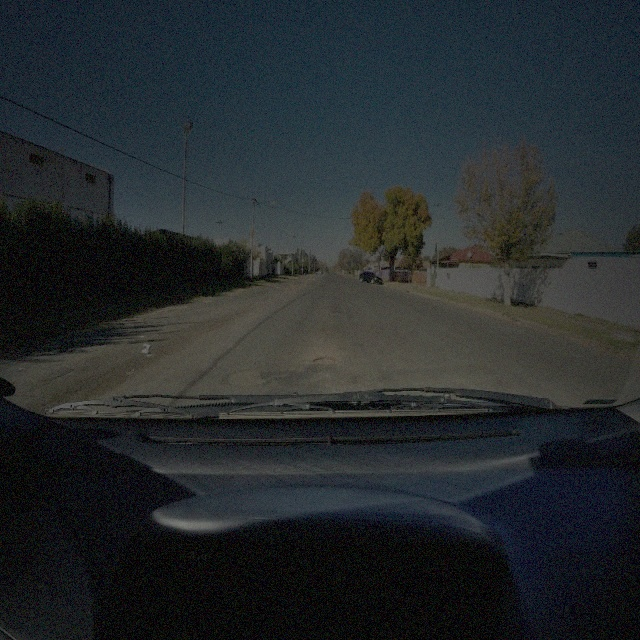pothole: (310, 355, 340, 367)
